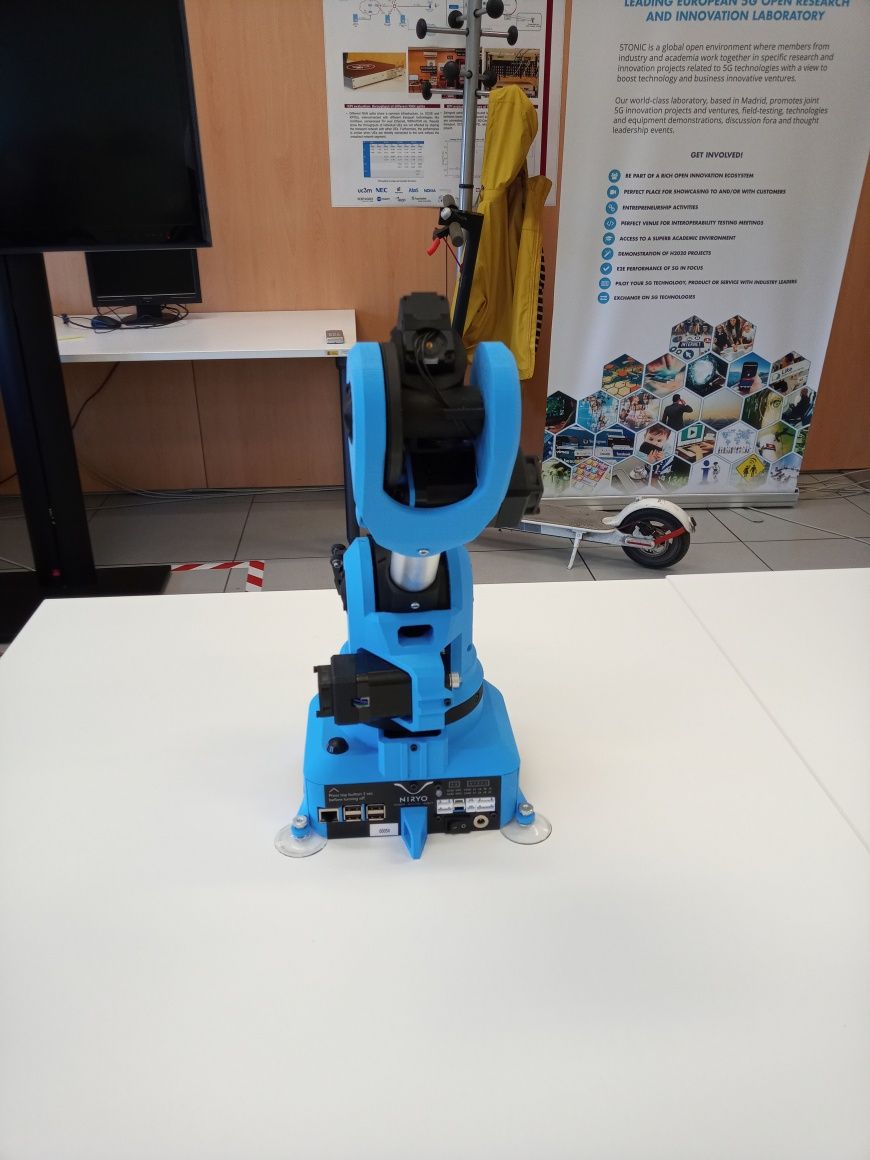robot: (275, 290, 554, 861)
